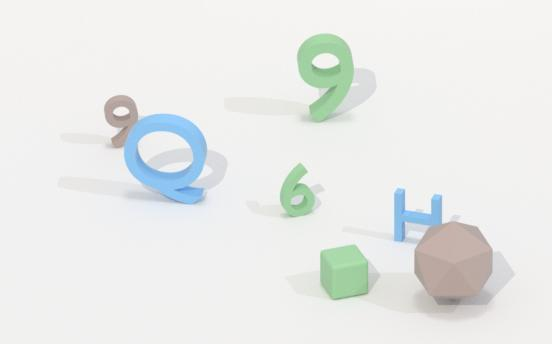chu_khoi: (124, 114, 206, 203), (394, 188, 441, 240)
da_giac: (415, 222, 492, 298)
lap_phuong: (320, 245, 369, 299)
so_khoi: (297, 34, 353, 121), (280, 163, 315, 216), (104, 95, 137, 147)
